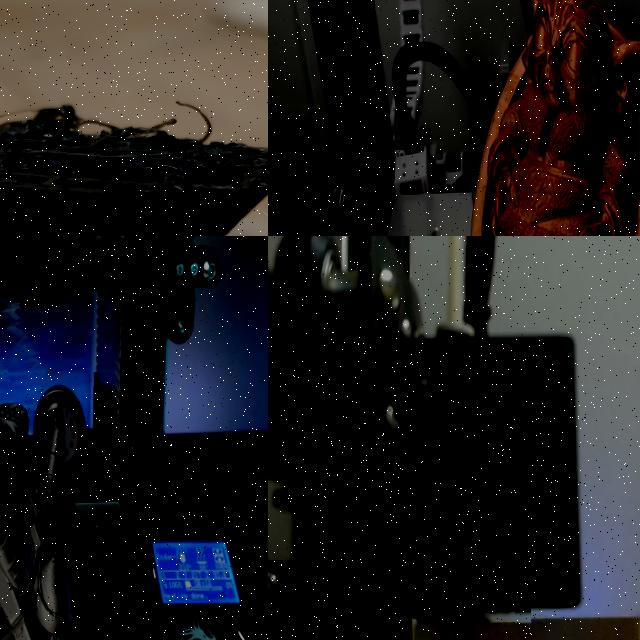spaghetti: (0, 0, 268, 208), (395, 599, 533, 640)
